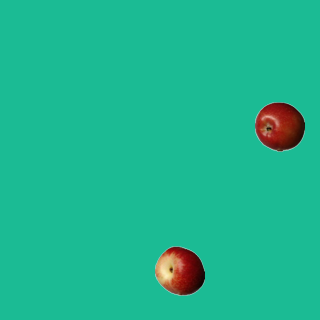Apple Braeburn: (254, 101, 304, 151)
Nectarine: (154, 245, 204, 295)
